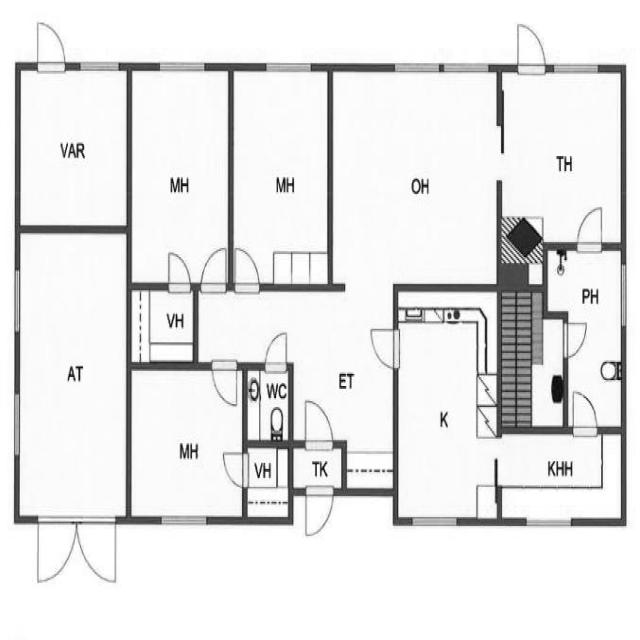door: (498, 295, 568, 428), (33, 15, 69, 78), (512, 18, 548, 78), (302, 484, 336, 539), (366, 322, 402, 373), (302, 396, 334, 451), (574, 202, 606, 253), (210, 359, 240, 410), (232, 243, 261, 295), (570, 384, 598, 437), (200, 243, 229, 294), (219, 447, 250, 492), (561, 313, 590, 361), (262, 327, 291, 374), (166, 247, 192, 291)
window: (390, 53, 492, 80), (405, 509, 465, 534), (260, 54, 319, 78), (548, 58, 606, 80), (518, 512, 577, 532), (154, 56, 208, 77), (156, 510, 212, 530), (75, 56, 124, 76), (617, 256, 630, 330), (11, 264, 24, 334), (12, 389, 23, 461)
zone: (328, 65, 501, 289), (16, 230, 129, 520), (128, 64, 232, 289), (395, 302, 496, 522), (231, 64, 331, 286), (500, 68, 622, 249), (17, 66, 130, 230), (128, 366, 244, 523), (546, 250, 624, 430), (495, 427, 627, 525), (494, 289, 564, 430), (30, 510, 122, 592), (129, 286, 196, 367), (244, 364, 290, 445), (245, 443, 291, 520), (293, 438, 346, 492)
